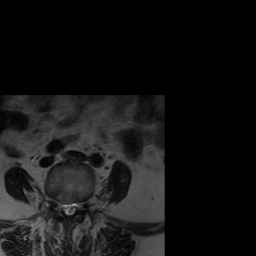CCS_severe_stenosis: (66, 195, 72, 221)
LFS_normal: (78, 194, 85, 216)
LLS_normal: (72, 195, 78, 218)
RFS_normal: (53, 193, 60, 218)
RLS_normal: (60, 195, 66, 219)
